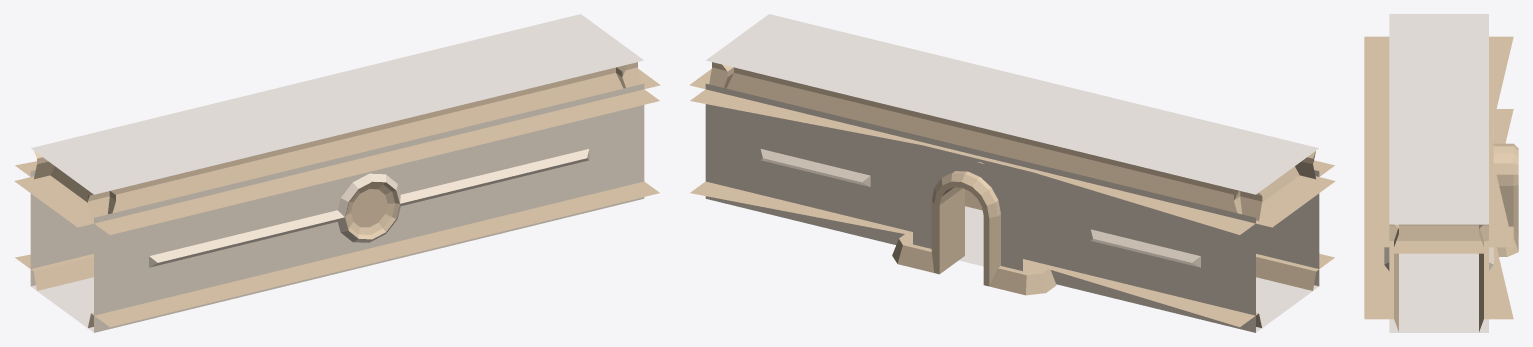
File: LibraryCorridorNoColliders-transformed.glb
3 views of the same model, side by side, from view 1: azimuth 30°, elevation 25°; view 2: azimuth 150°, elevation 25°; view 3: azimuth 270°, elevation 25° (orthographic). The views are drawn at different scales.
Visible parts, largest first — view 1: object1.001, object2.001, object1.002; view 2: object1.001, object1.002, object2.001; view 3: object1.002, object2.001, object1.001.
Boxes of the visible parts, x1=… form: object1.001: x1=30, y1=83, x2=644, y2=332; object2.001: x1=14, y1=62, x2=660, y2=327; object1.002: x1=31, y1=14, x2=643, y2=332; object1.001: x1=705, y1=83, x2=1319, y2=332; object1.002: x1=706, y1=14, x2=1318, y2=332; object2.001: x1=689, y1=62, x2=1335, y2=327; object1.002: x1=1389, y1=14, x2=1488, y2=332; object2.001: x1=1364, y1=36, x2=1518, y2=331; object1.001: x1=1384, y1=121, x2=1493, y2=270.
Bounding box in the file's own units: 5.3 × 1.2 × 1.55.
